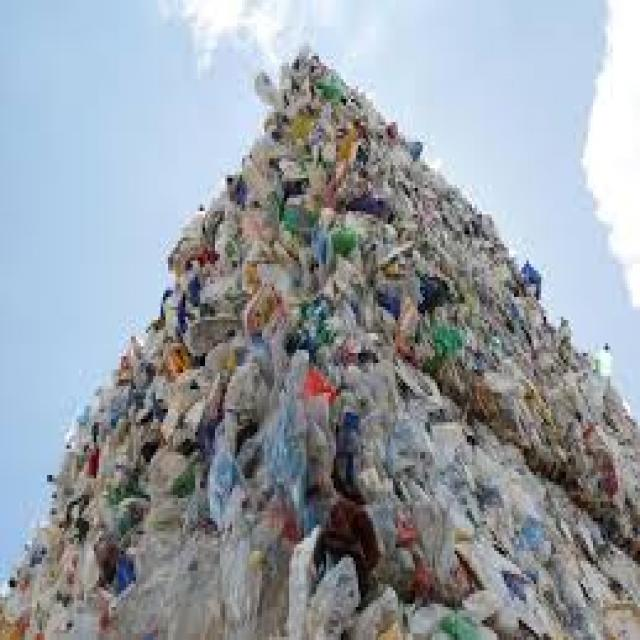heap: (169, 308, 557, 640)
